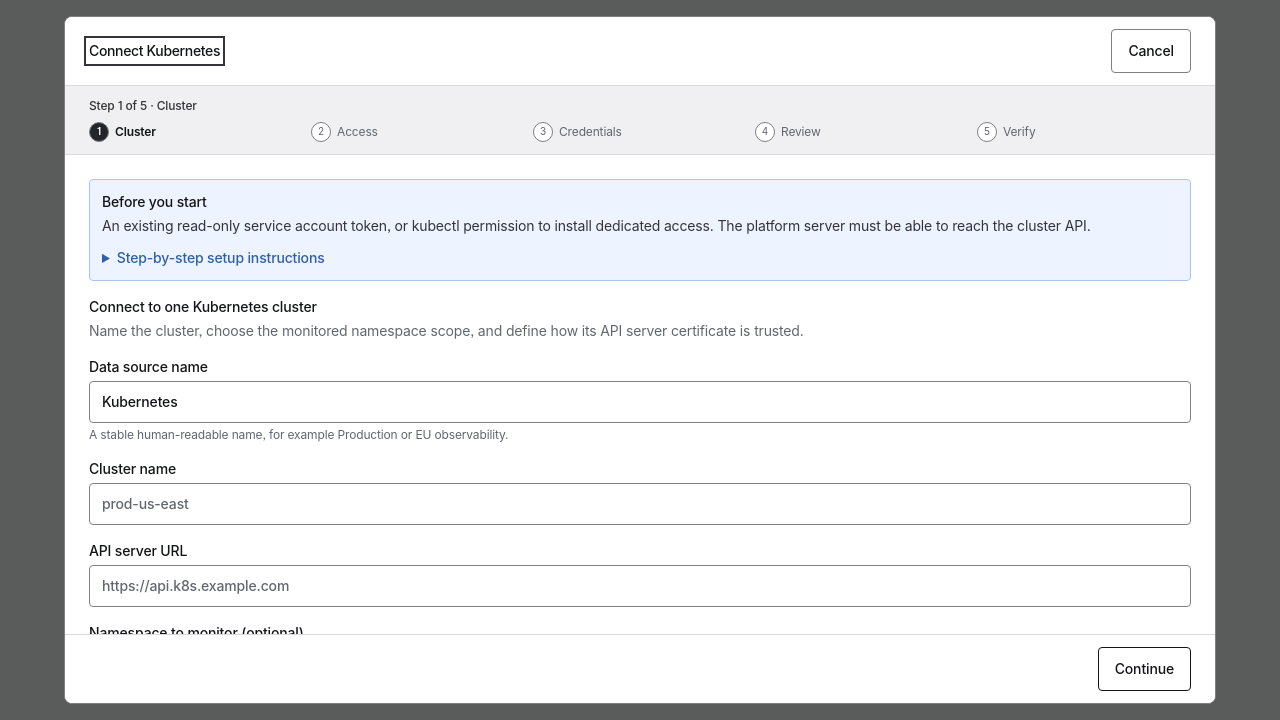
Test: KubernetesConnectWizard › a private apiUrl with system trust is rejected before access installation
In the field labelled "API server URL": point(640, 586) [89, 565, 1191, 607], type "https://10.0.0.1"
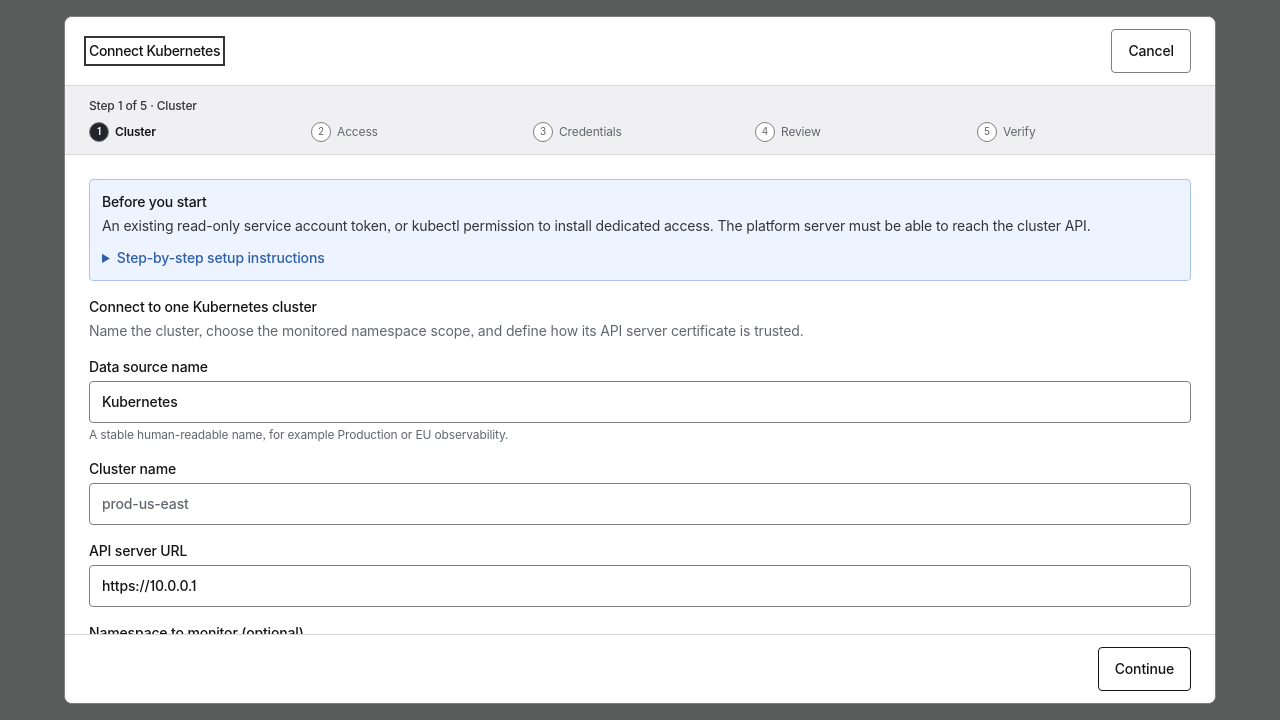
Click the button "Continue": point(1144, 669) [1098, 647, 1191, 691]
(page scrolled)
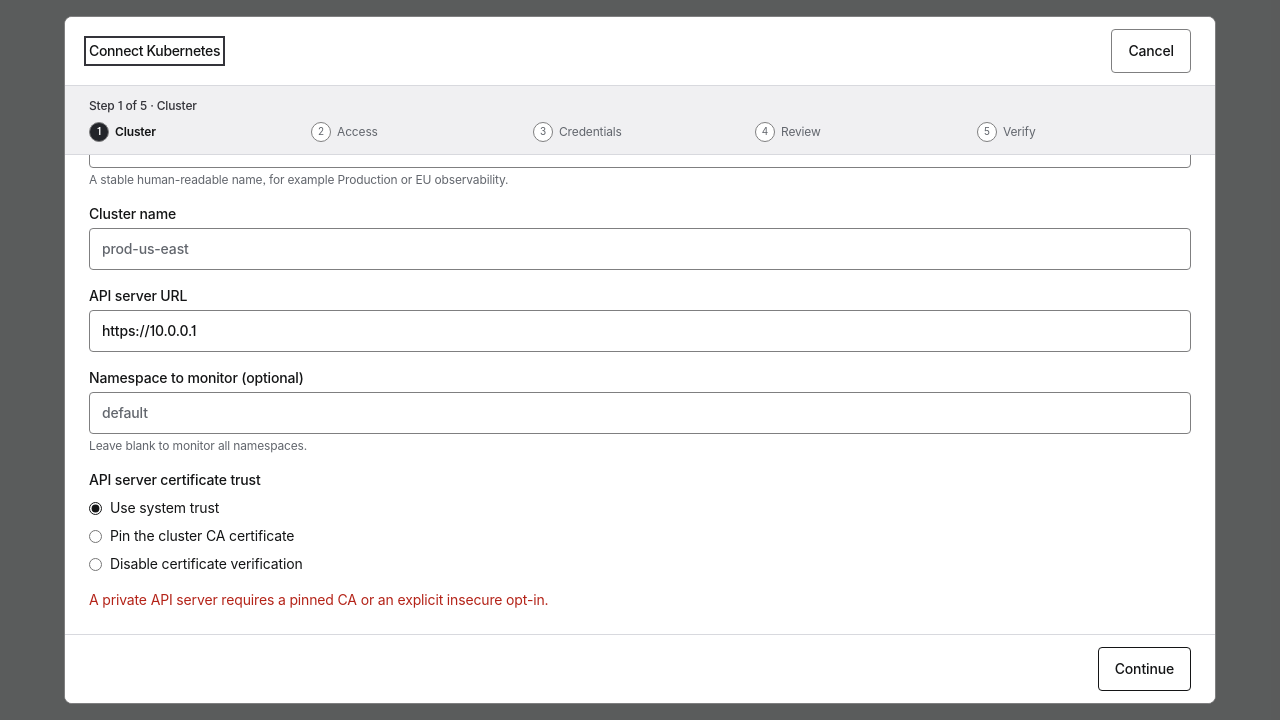
Expected: the message reads "A private API server requires a pinned CA or an explicit insecure opt-in.", [89, 591, 548, 608]
